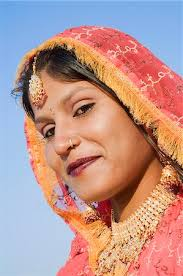indian_female: (17, 28, 154, 210)
